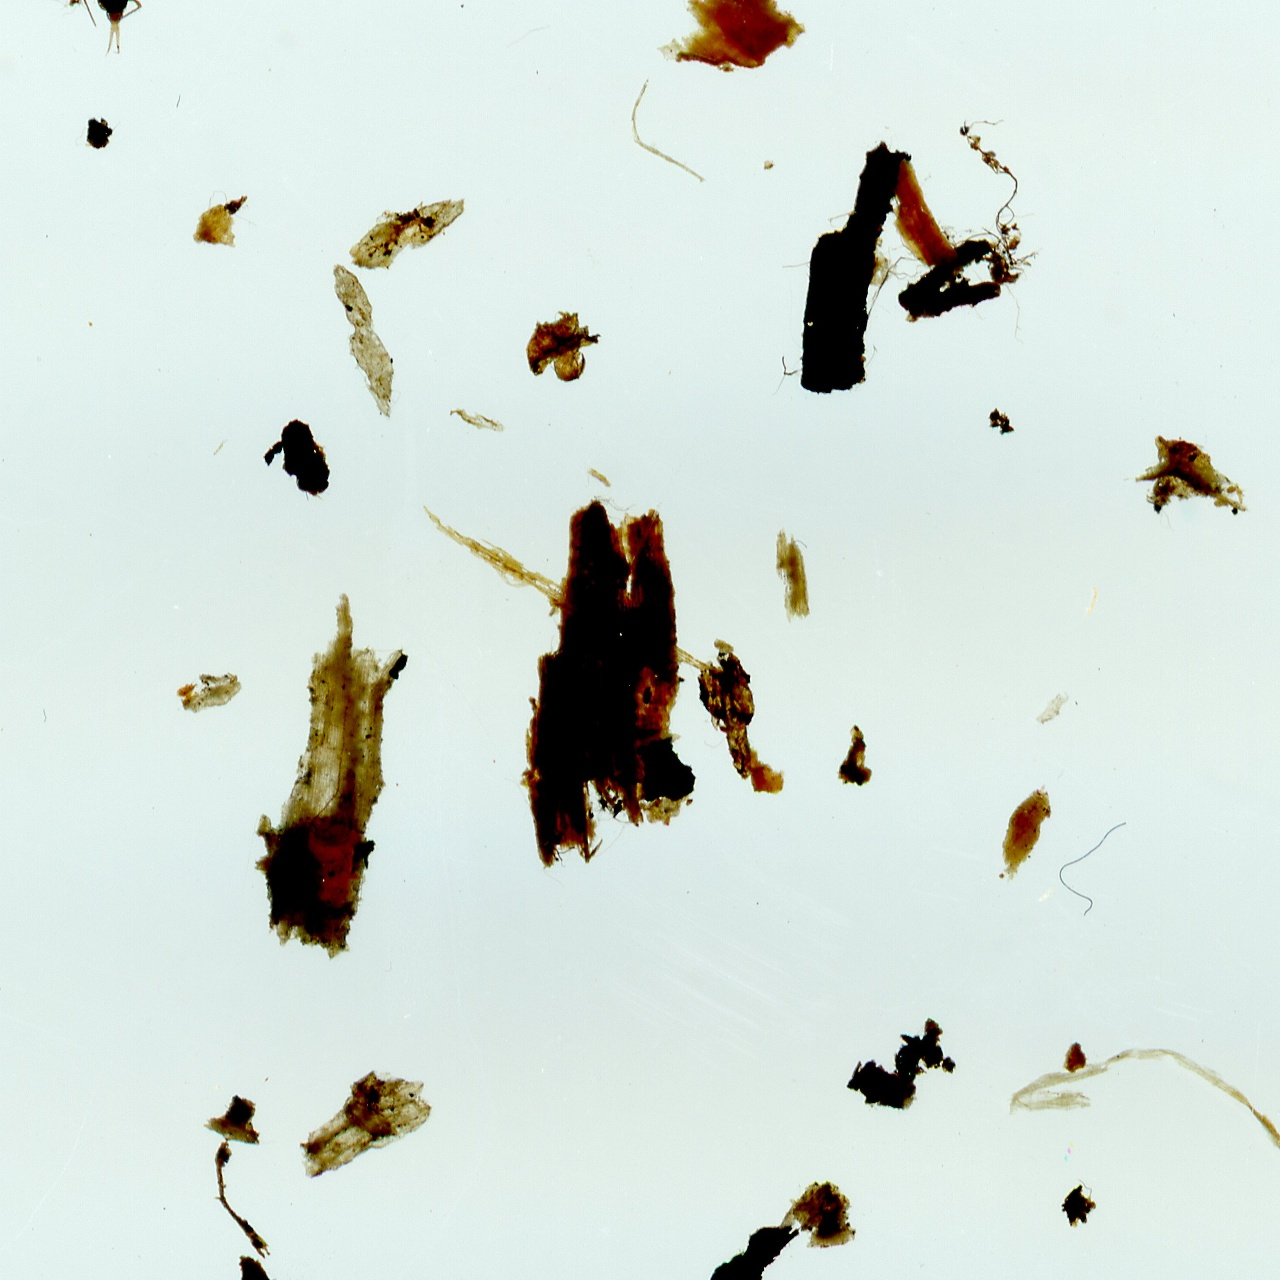arthropod: (62, 0, 158, 59)
